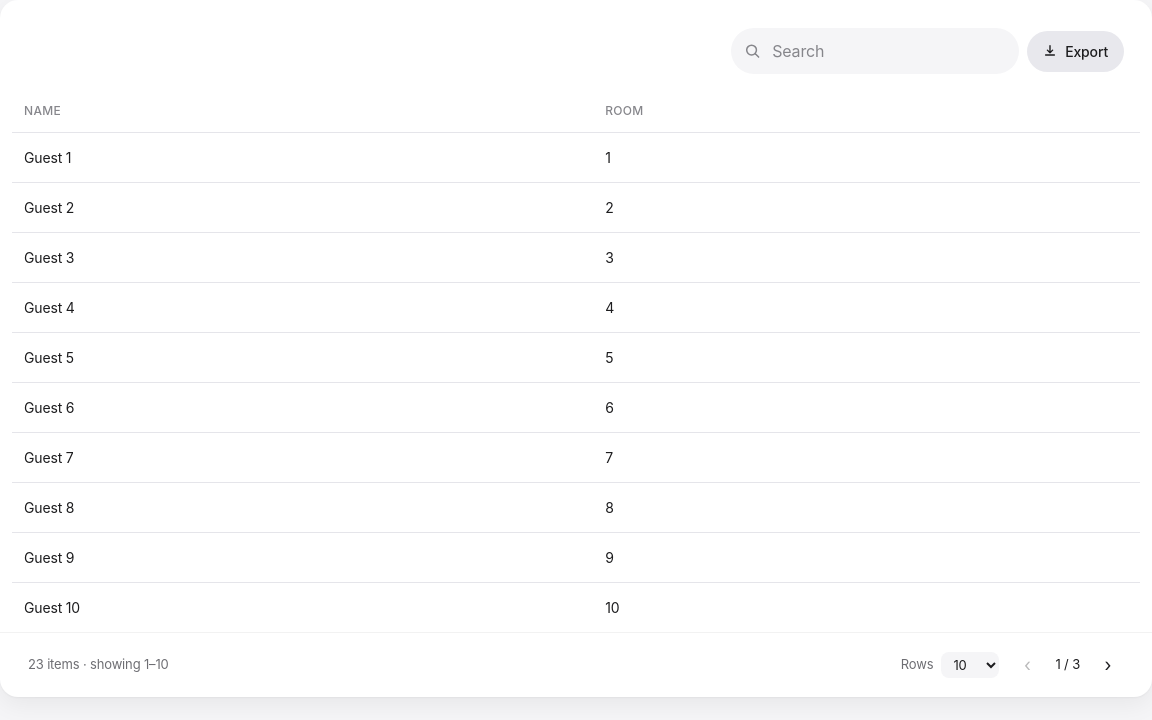
Scenario: DataTable › paginates and resets to page 1 when searching
Later steps or results of the test are not shown.
Expected: the text "1 / 3" is shown, x1=1056 y1=656 x2=1080 y2=672
Click the button named "Next page": (1108, 665) x1=1092 y1=649 x2=1124 y2=681
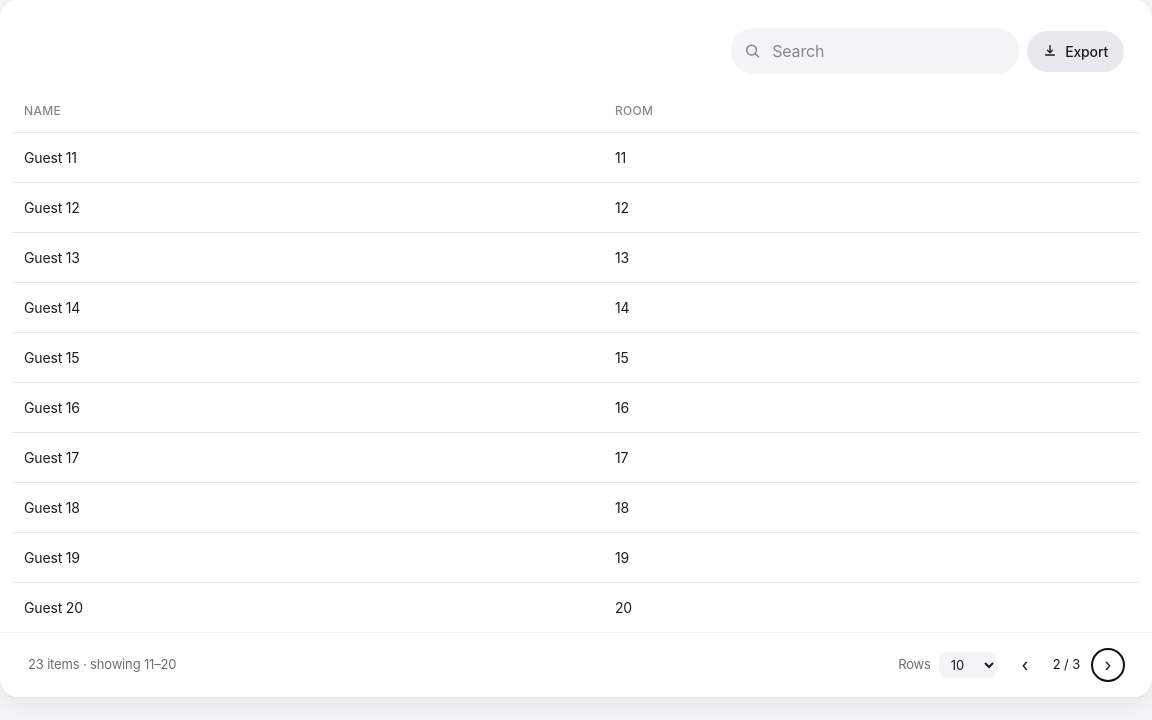
Result: the text "2 / 3" is shown at x1=1053 y1=656 x2=1080 y2=672
